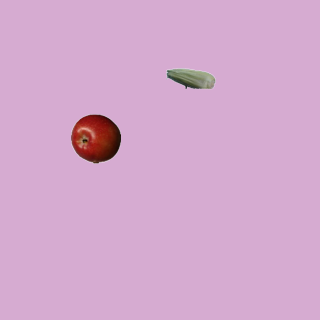Apple Braeburn: (70, 113, 120, 163)
Corn Husk: (165, 53, 215, 103)
